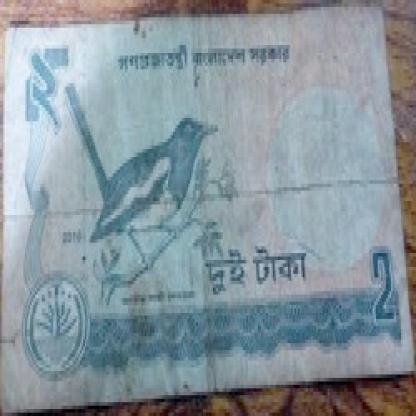two taka: (25, 49, 75, 142), (361, 242, 398, 333)
